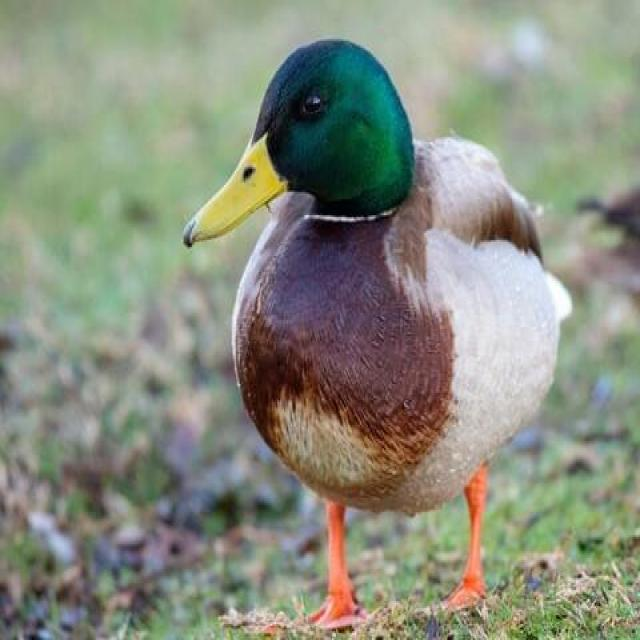Duck: (184, 26, 575, 626)
